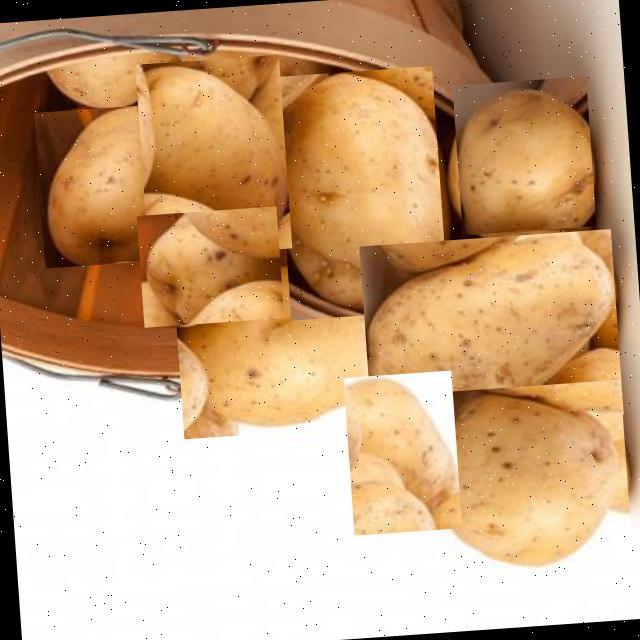Potato: (359, 228, 623, 430), (274, 65, 448, 319), (172, 257, 400, 438), (430, 378, 633, 577), (134, 53, 292, 257), (452, 75, 596, 234), (34, 103, 170, 267), (343, 369, 462, 534), (136, 205, 284, 326)
